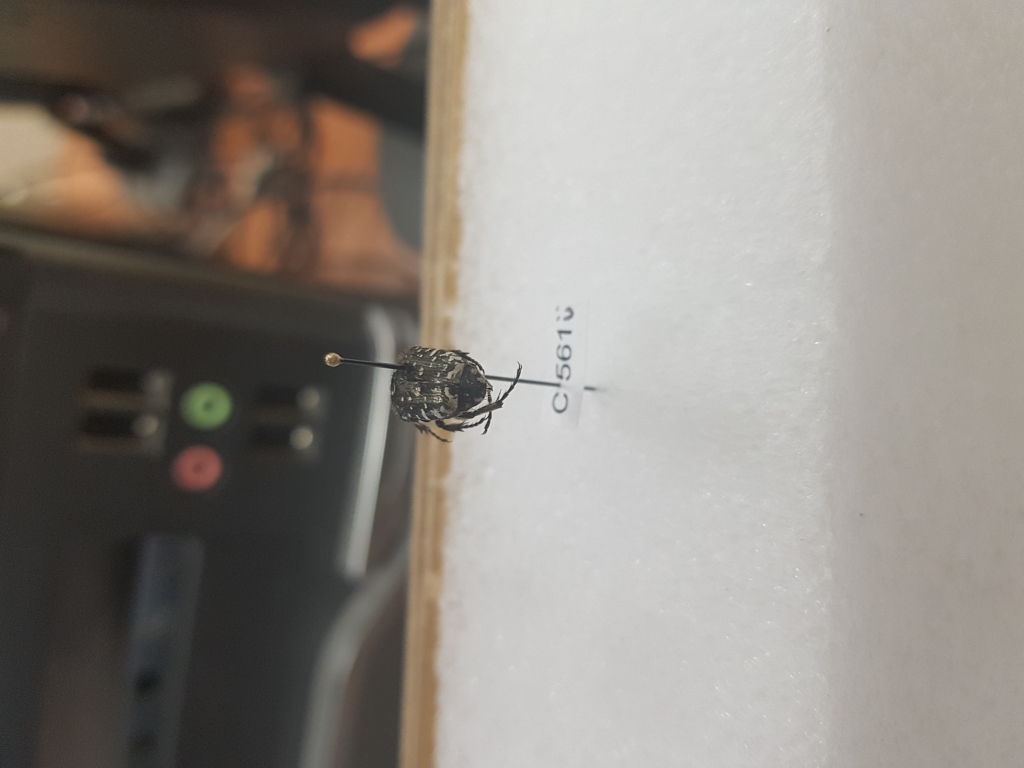Oxythyrea_funesta: (383, 339, 527, 435)
